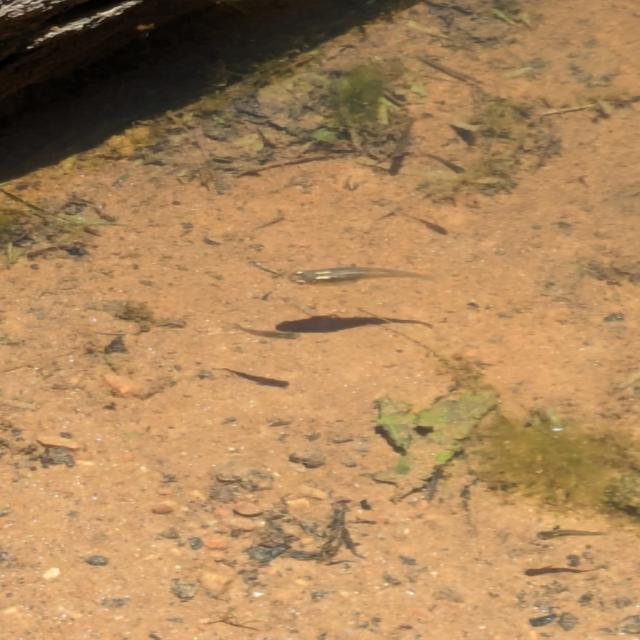Sivrisinek Baligi: (252, 259, 425, 291), (236, 322, 305, 344), (533, 525, 606, 541)
